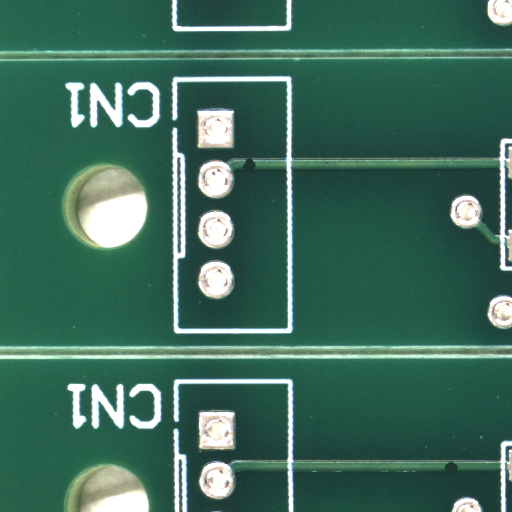Mouse_bite: (248, 164, 260, 176), (451, 467, 464, 478)
